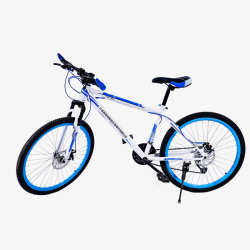MNV: (17, 54, 246, 204)
